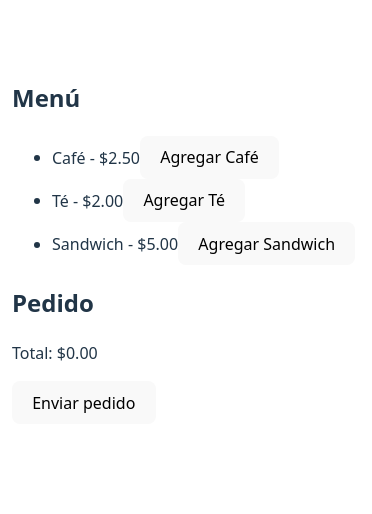
Scenario: flujo completo: cargar menú, agregar, total, enviar y reset
This screenshot has width=372, height=514.
Step 1. Click the button "Agregar Café" → click(210, 157), box [140, 136, 279, 179]
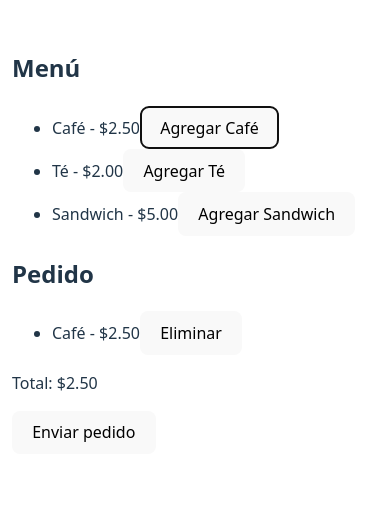
Step 2. Click the button "Agregar Té" → click(184, 171), box [123, 149, 245, 192]
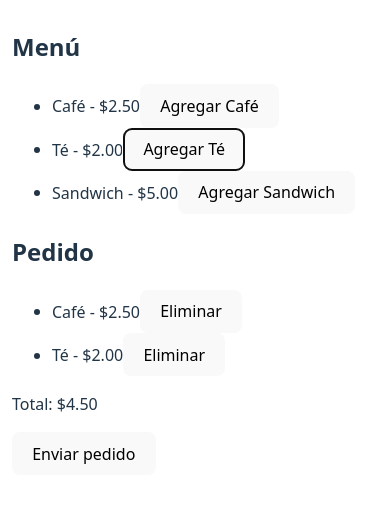
Step 3. Click the button "Agregar Sandwich" → click(267, 192), box [178, 171, 355, 214]
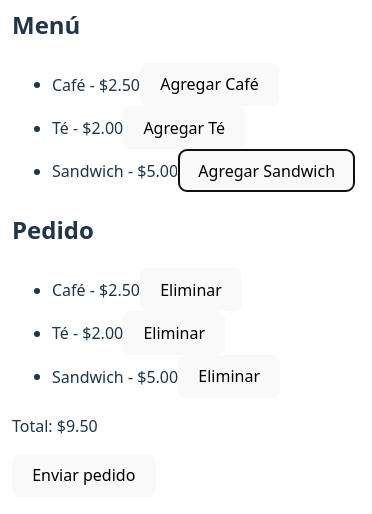
Expected: the list named "pedido" shows "Café", [52, 279, 86, 301]
Expected: the list named "pedido" shows "Té", [52, 322, 69, 344]
Expected: the list named "pedido" shows "Sandwich", [52, 365, 124, 387]
envia y confirma el envio
Step 4. Click the button "Enviar pedido" → click(84, 475), box [12, 454, 156, 497]
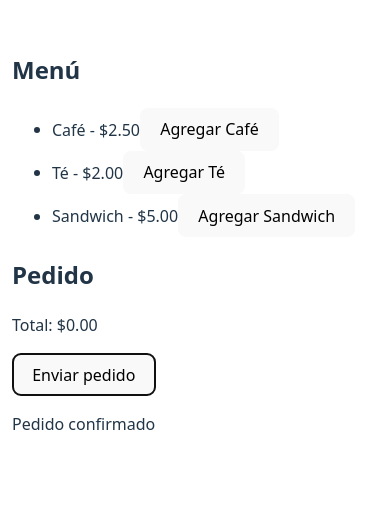
Expected: the text "Pedido confirmado" is shown, [12, 413, 155, 435]
Expected: the text "Total: $0.00" is shown, [12, 314, 98, 336]
